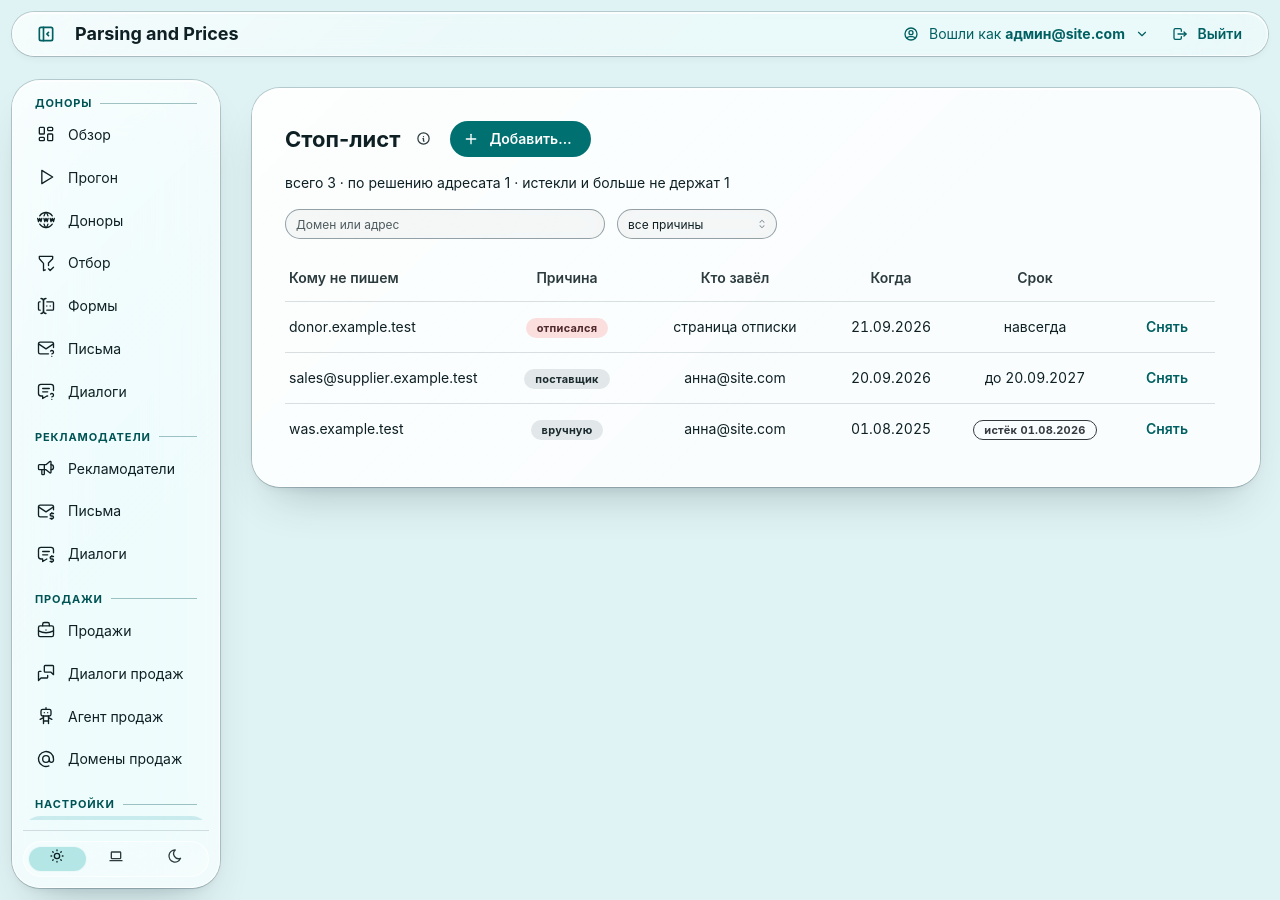
стоп-лист › причина уходит на сервер вместе со снятием
The image size is (1280, 900).
Expected: the text "donor.example.test" is shown, [285, 302, 495, 352]
Click the button "Снять" in the row of "donor".
click(1167, 327)  # box [1137, 314, 1197, 340]
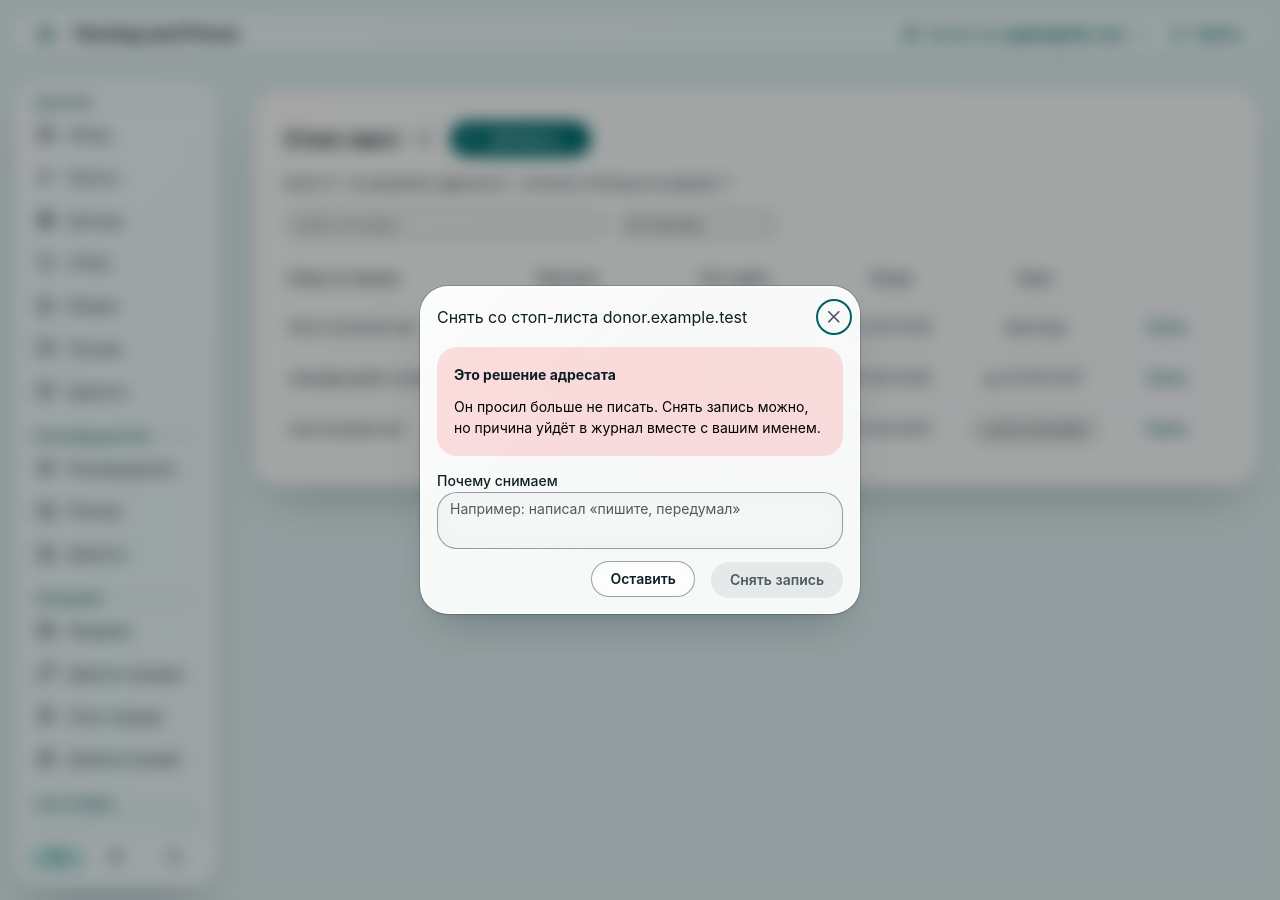
Type "написал «пишите»" into the text box labelled "Почему снимаем".
click(640, 521); type("написал «пишите»")  # box [437, 492, 843, 549]
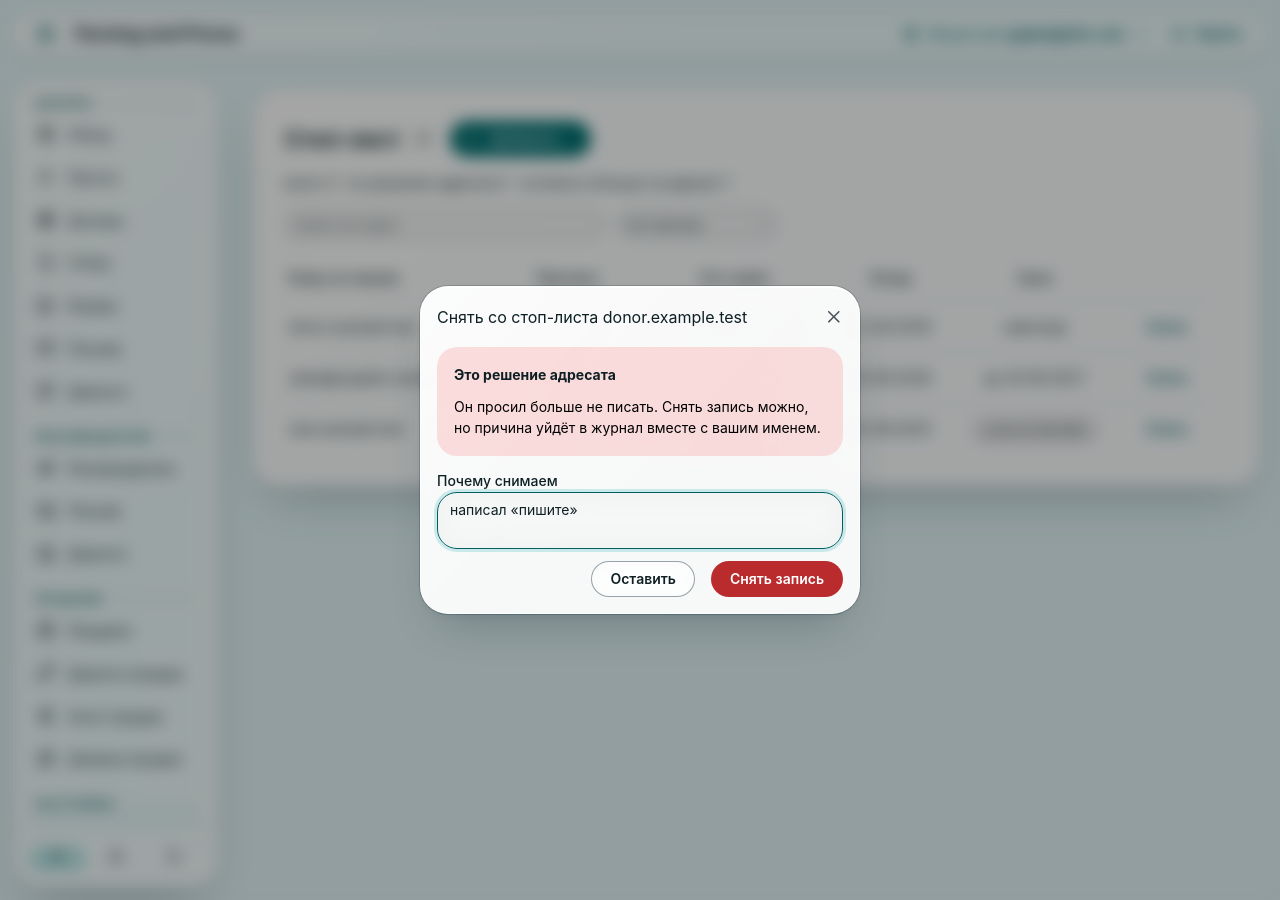
Click the button "Снять запись".
click(777, 579)  # box [711, 561, 843, 597]
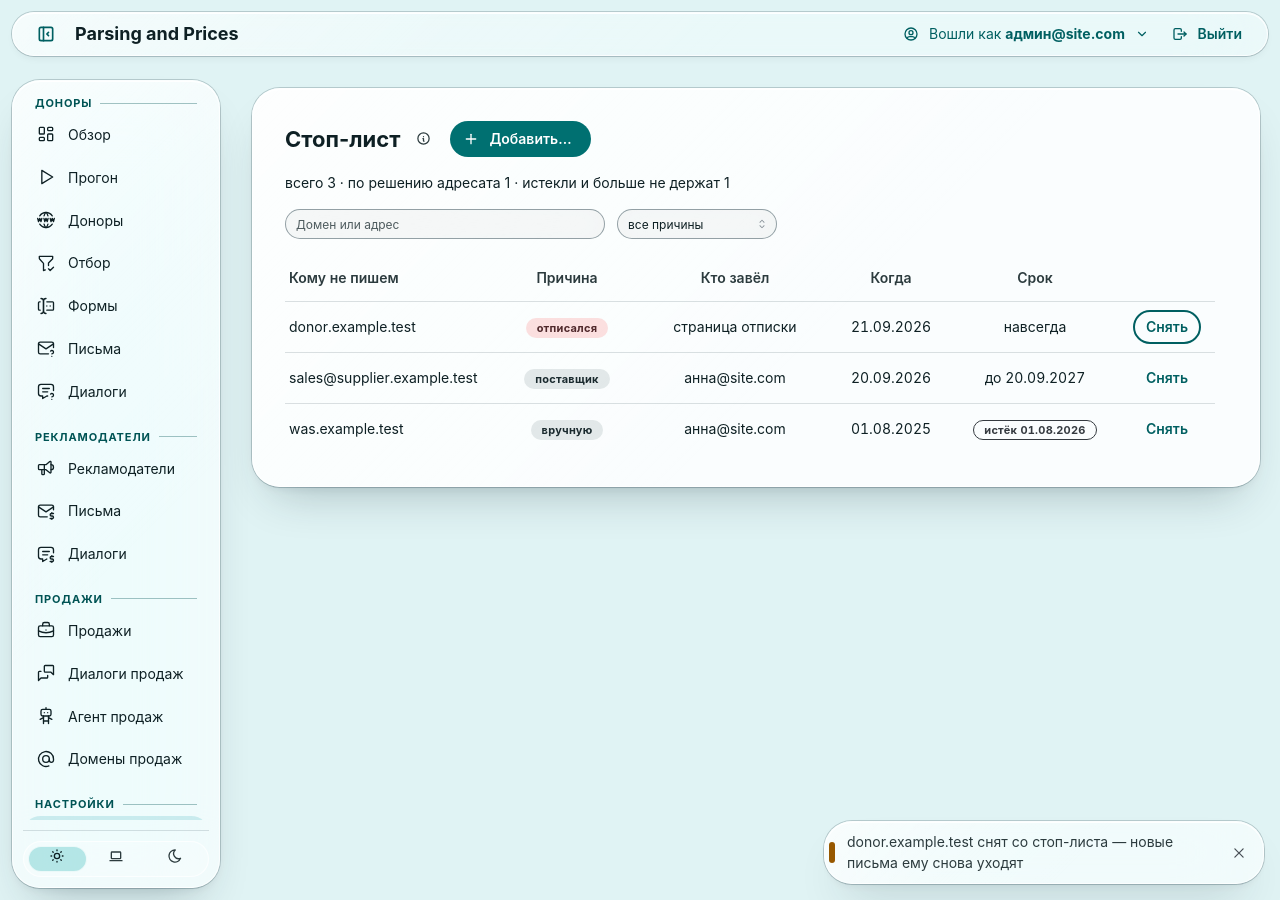
Result: the text "снова уходят" is shown at [847, 833, 1173, 871]
